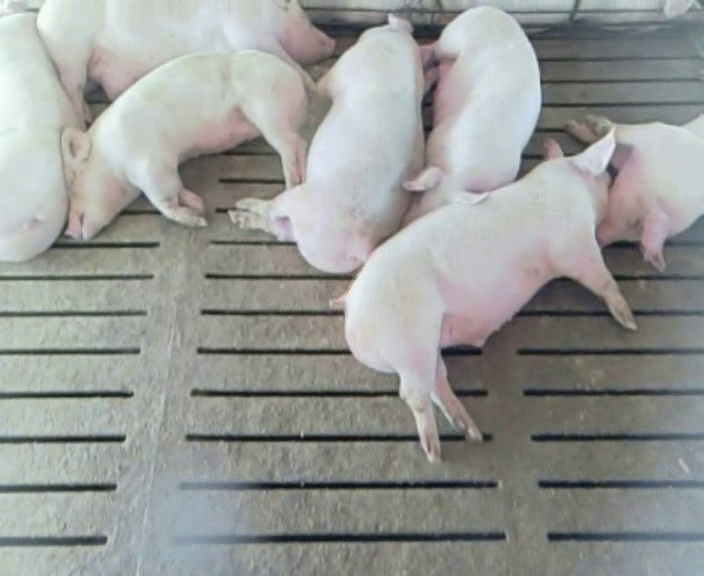pig: (330, 127, 635, 461), (229, 15, 438, 272), (64, 50, 307, 238), (37, 2, 333, 122), (403, 6, 539, 224)
